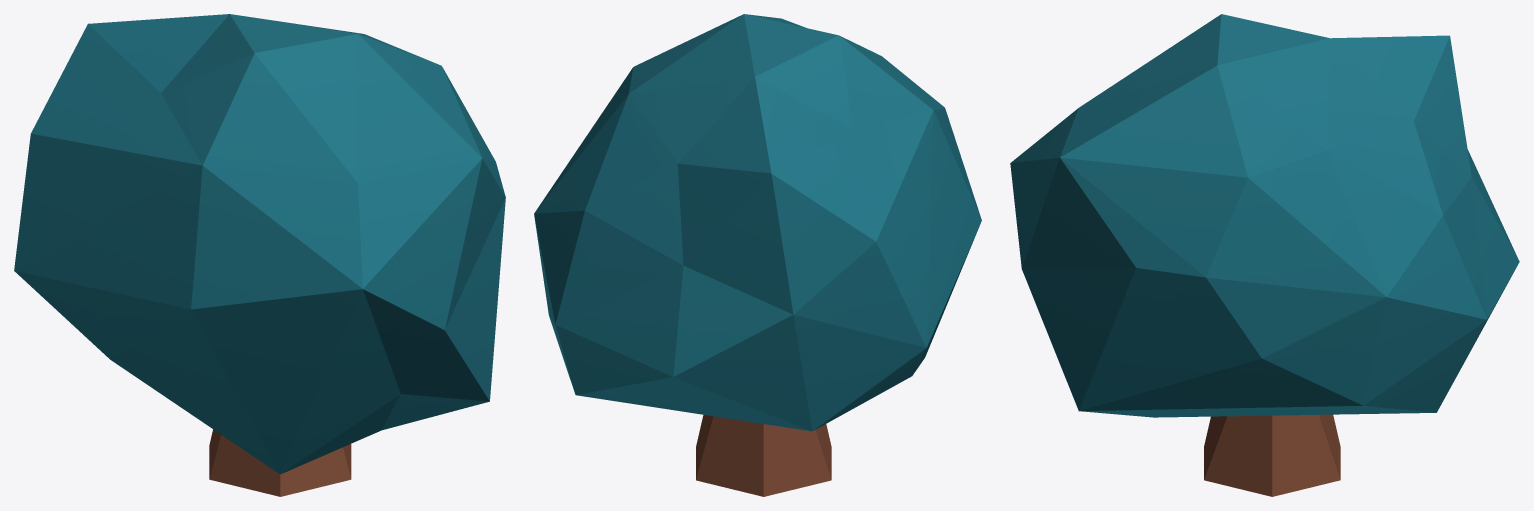
The model's file is Bush_1_gradient_blue_vc.fbx.
3 renders of one model, left to right at view 1: azimuth 30°, elevation 25°; view 2: azimuth 150°, elevation 25°; view 3: azimuth 270°, elevation 25°, orthographic. The views are drawn at different scales.
Parts seen in each view (by area): view 1: Bush_1_gradient_blue_vc; view 2: Bush_1_gradient_blue_vc; view 3: Bush_1_gradient_blue_vc.
Boxes of the visible parts, <box> form: Bush_1_gradient_blue_vc: <box>14,14,505,496</box>; Bush_1_gradient_blue_vc: <box>534,14,981,496</box>; Bush_1_gradient_blue_vc: <box>1010,14,1519,496</box>.
Size of the model in its own units: 40.88 by 42.19 by 45.82.
